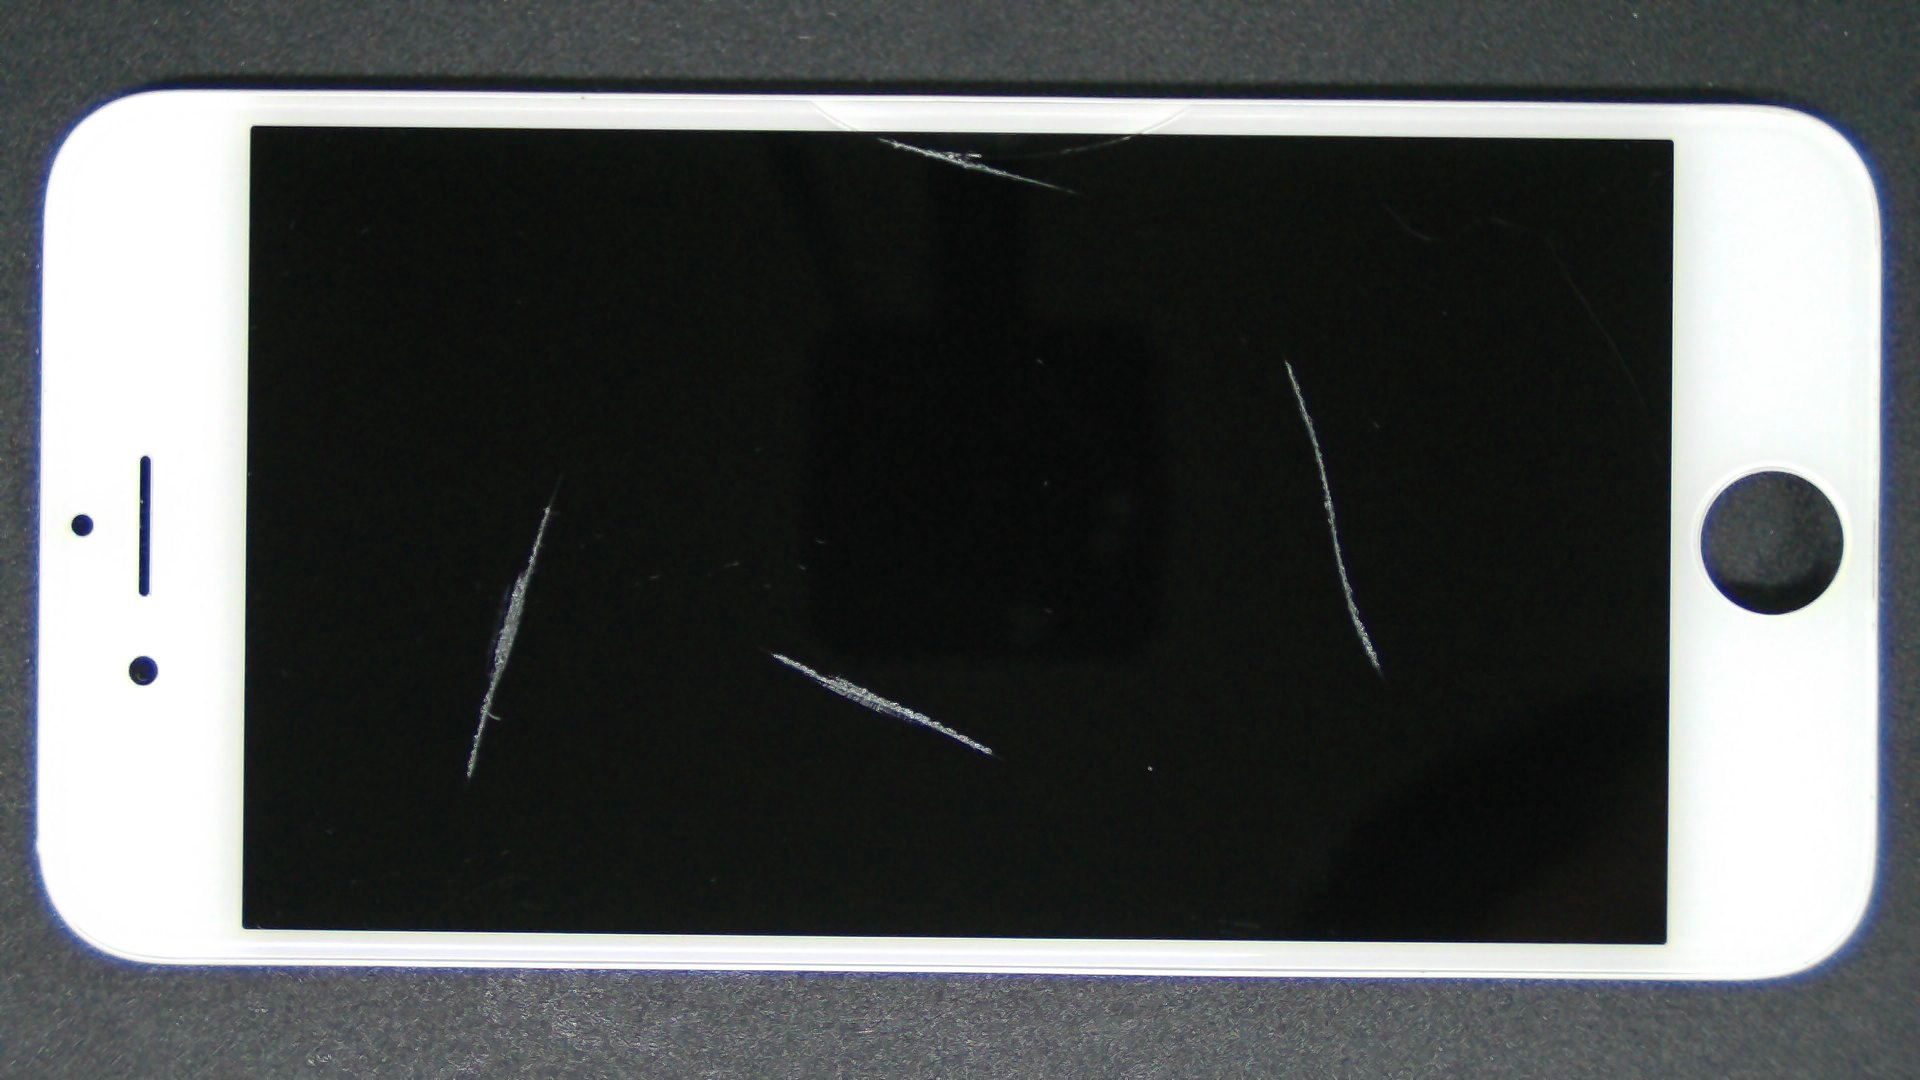oil: (385, 326, 1155, 978), (642, 178, 1920, 542), (274, 252, 822, 758), (438, 69, 1312, 206)
